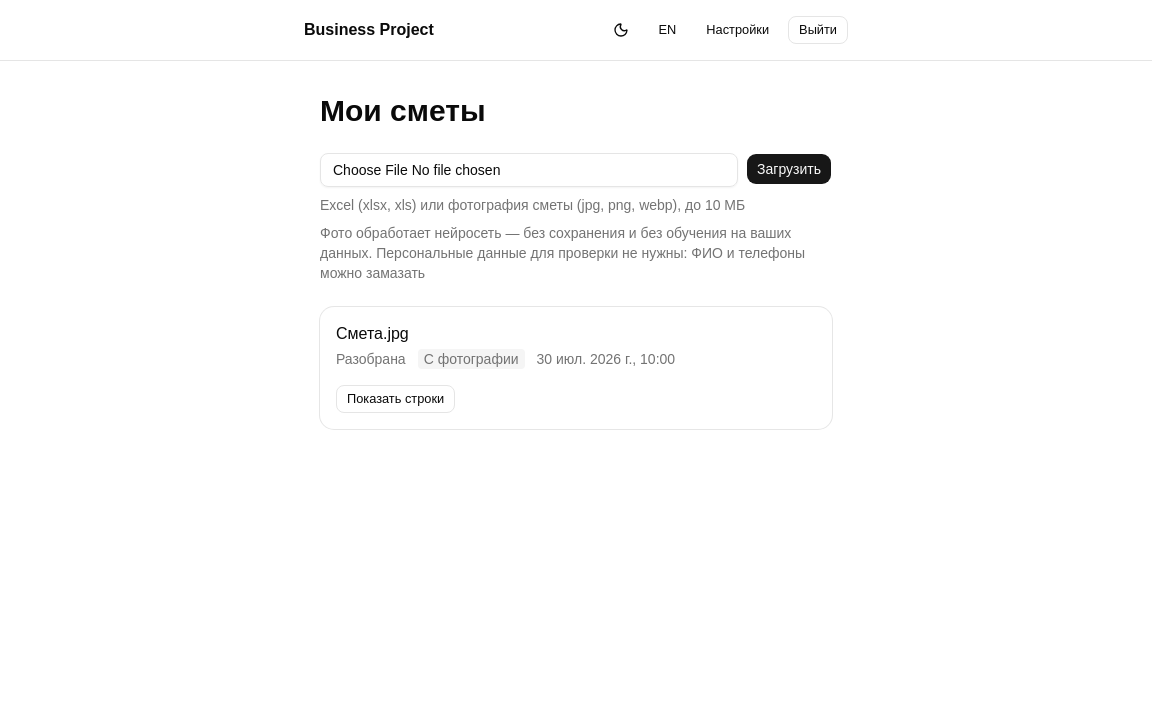
Test: у сметы с фотографии есть предупреждение про нейросеть, у Excel — нет
Expected: the text "С фотографии" is shown, [418,349,525,369]
Click the button "Показать строки" at (396, 399), box [336,385,455,413]
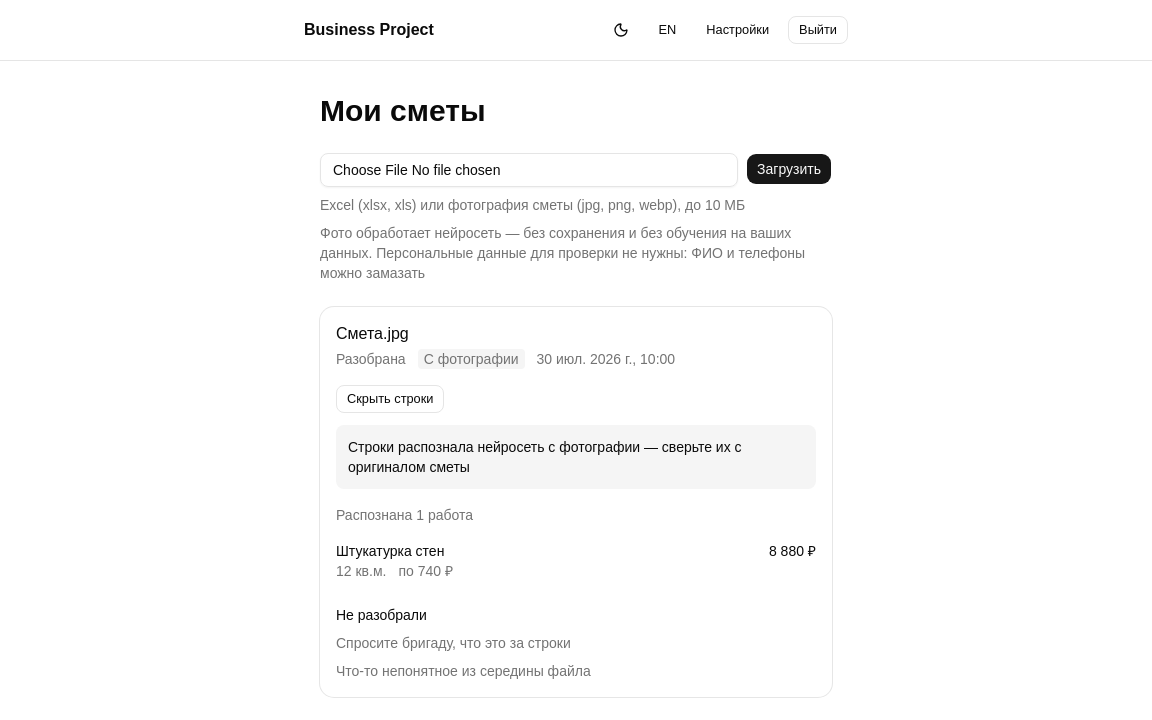
Expected: the text "Строки распознала нейросеть с фотографии — сверьте их с оригиналом сметы" is shown, [348,437,804,477]
